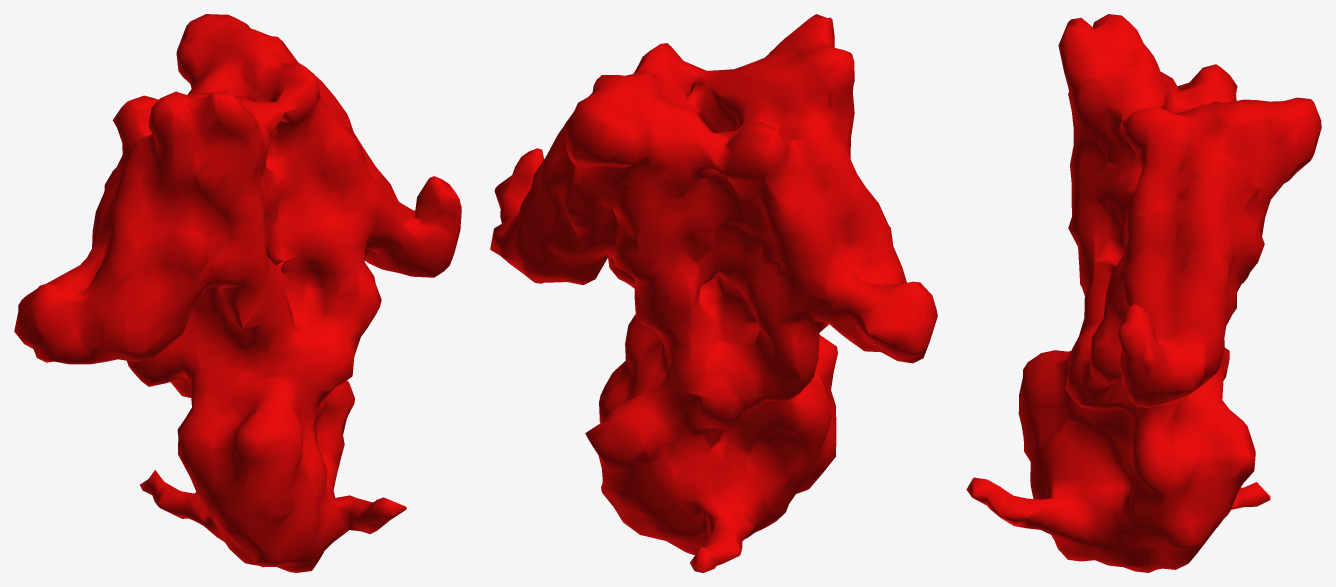
File: CoarseMS_3j1z.fbx
The picture shows the model from 3 angles, left to right: view 1: azimuth 30°, elevation 25°; view 2: azimuth 150°, elevation 25°; view 3: azimuth 270°, elevation 25°; orthographic projection. The views are drawn at different scales.
Parts seen in each view (by area): view 1: CoarseMS_3j1z; view 2: CoarseMS_3j1z; view 3: CoarseMS_3j1z.
Part boxes in pixels (<box>): CoarseMS_3j1z: <box>14,14,461,572</box>; CoarseMS_3j1z: <box>490,14,937,572</box>; CoarseMS_3j1z: <box>966,14,1321,572</box>.
Size of the model in its own units: 86.24 by 98.94 by 62.
